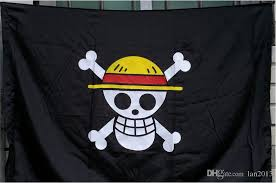Jolly Roger Flag: (1, 1, 274, 182)
